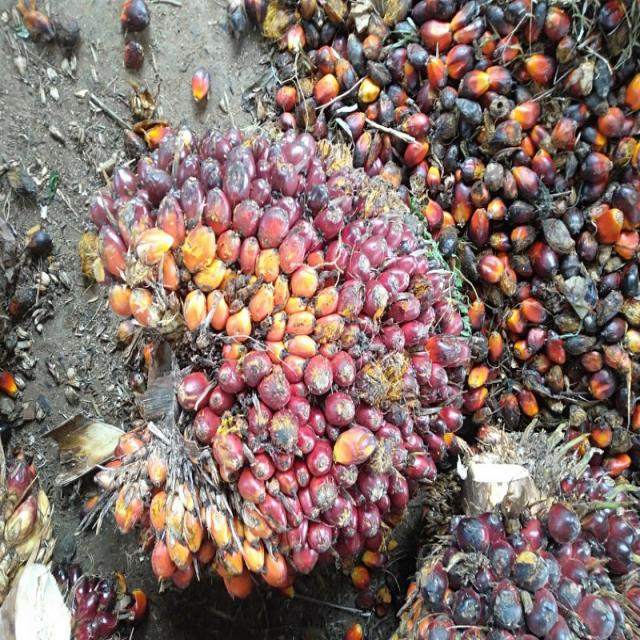fraksi 3: (66, 139, 475, 585)
